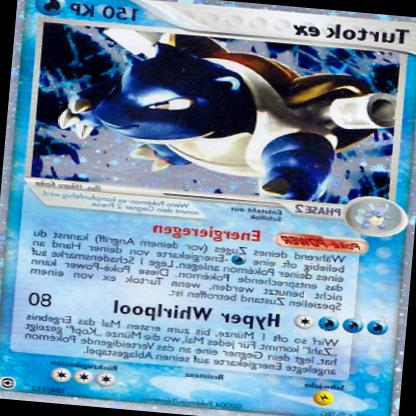Blastoise: (69, 29, 399, 209)
